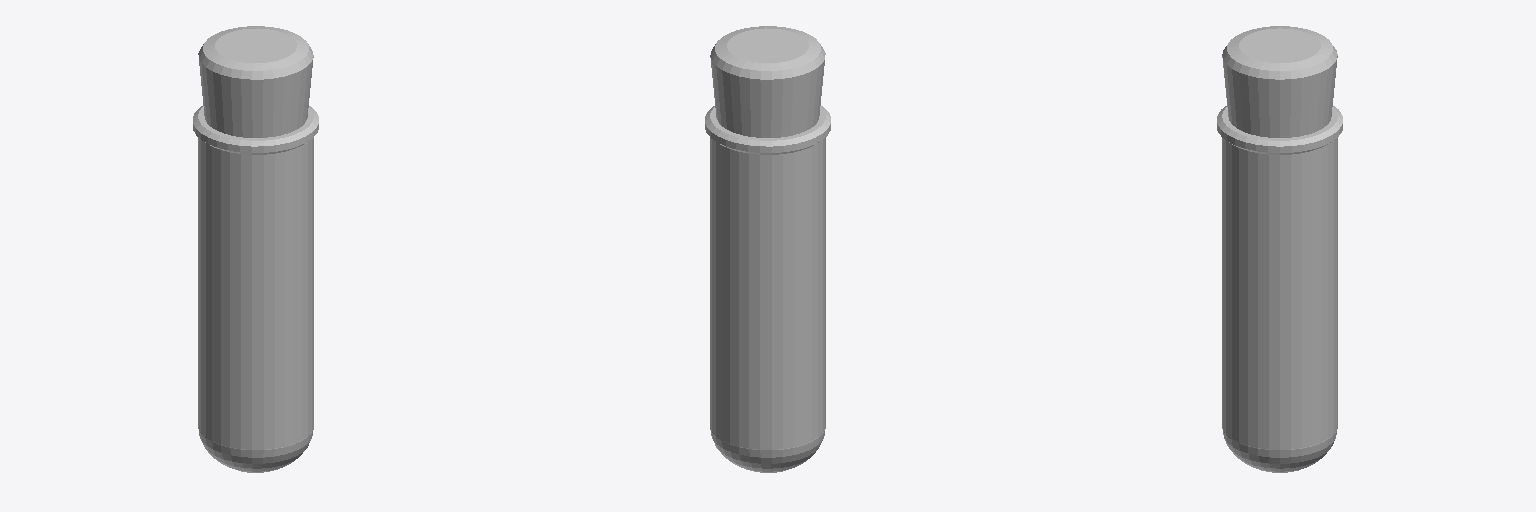
Rendered from potion_mineure.obj.
3 views of the same model, side by side, from view 1: azimuth 30°, elevation 25°; view 2: azimuth 150°, elevation 25°; view 3: azimuth 270°, elevation 25° (orthographic).
Parts seen in each view (by area): view 1: Sphère, Cylindre; view 2: Sphère, Cylindre; view 3: Sphère, Cylindre.
Boxes of the visible parts, x1=… form: Sphère: x1=193, y1=106, x2=318, y2=472; Cylindre: x1=198, y1=26, x2=313, y2=137; Sphère: x1=705, y1=106, x2=830, y2=472; Cylindre: x1=710, y1=26, x2=825, y2=137; Sphère: x1=1217, y1=106, x2=1342, y2=472; Cylindre: x1=1222, y1=26, x2=1337, y2=137.
Size of the model in its own units: 0.0274 by 0.1 by 0.0274.